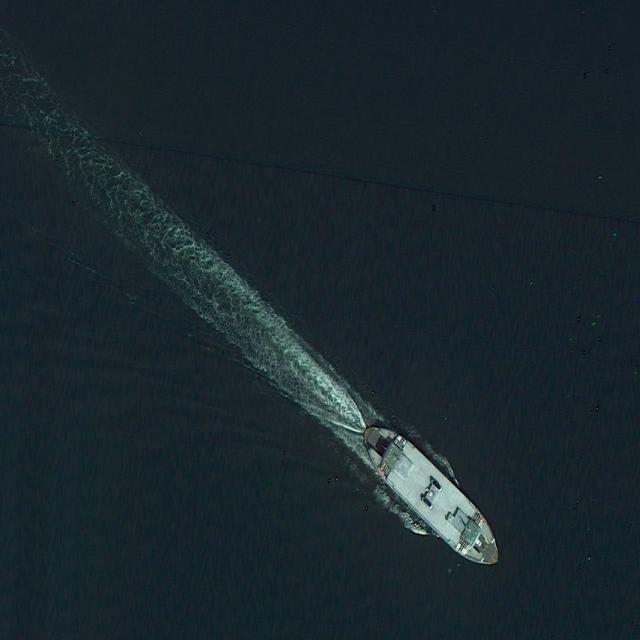RoRo: (353, 407, 510, 581)
